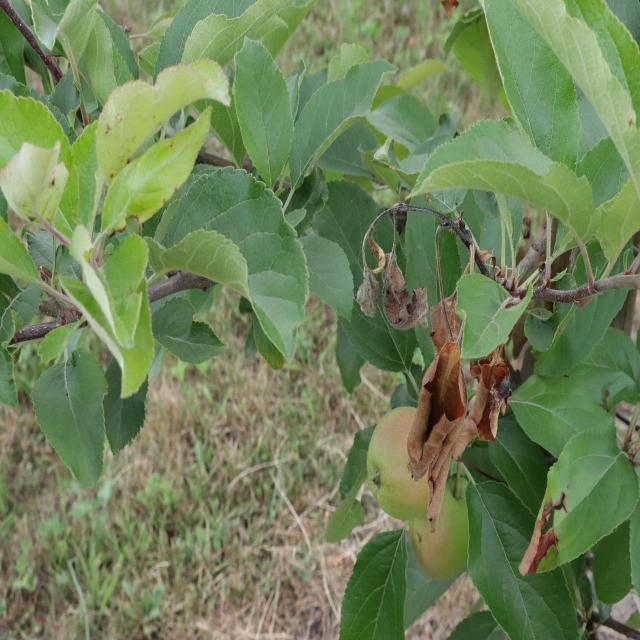-FireBlight-: (356, 197, 509, 544)
